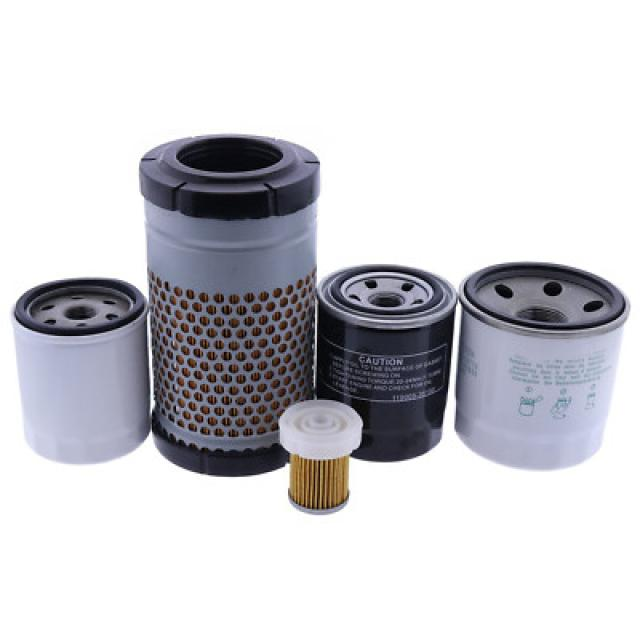oil_filter: (142, 133, 316, 400), (462, 264, 618, 466), (0, 271, 150, 468), (322, 266, 456, 405), (287, 411, 348, 513)
